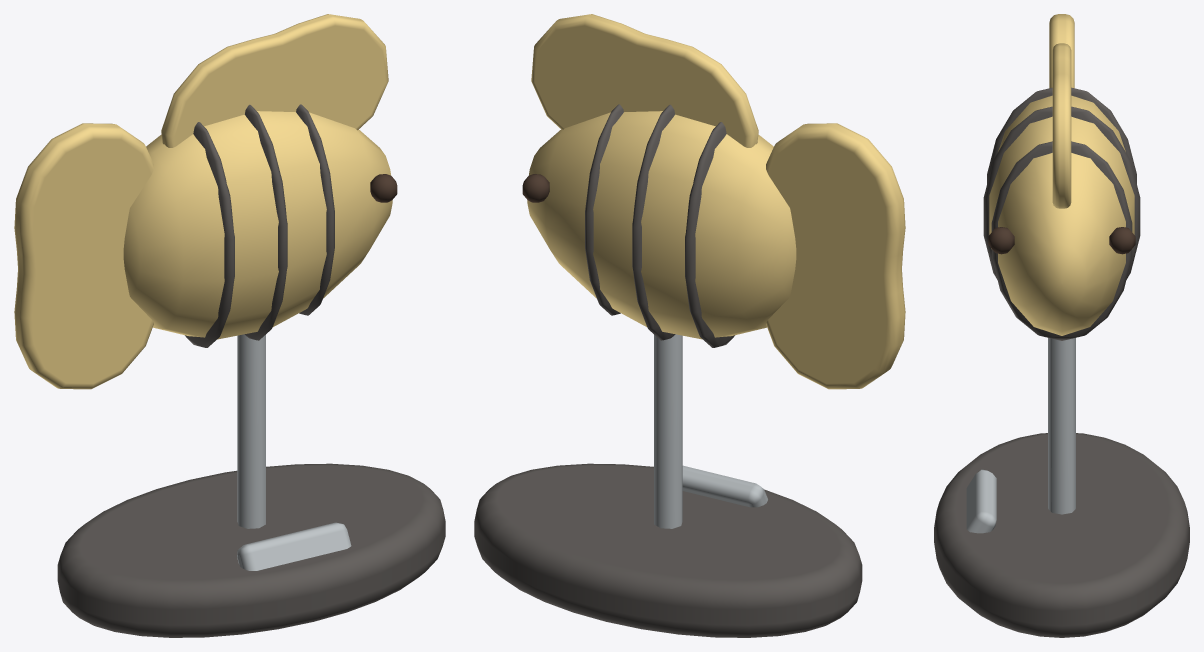
File: angelfish_model.glb
3 views of the same model, side by side, from view 1: azimuth 30°, elevation 25°; view 2: azimuth 150°, elevation 25°; view 3: azimuth 270°, elevation 25° (orthographic). The views are drawn at different scales.
Parts seen in each view (by area): view 1: angelfish_model_mesh; view 2: angelfish_model_mesh; view 3: angelfish_model_mesh.
Part boxes in pixels (x1,y1,x2,y2): angelfish_model_mesh: [14, 14, 445, 637]; angelfish_model_mesh: [474, 14, 905, 637]; angelfish_model_mesh: [934, 14, 1189, 637].
Size of the model in its own units: 0.3888 by 0.4861 by 0.22.
